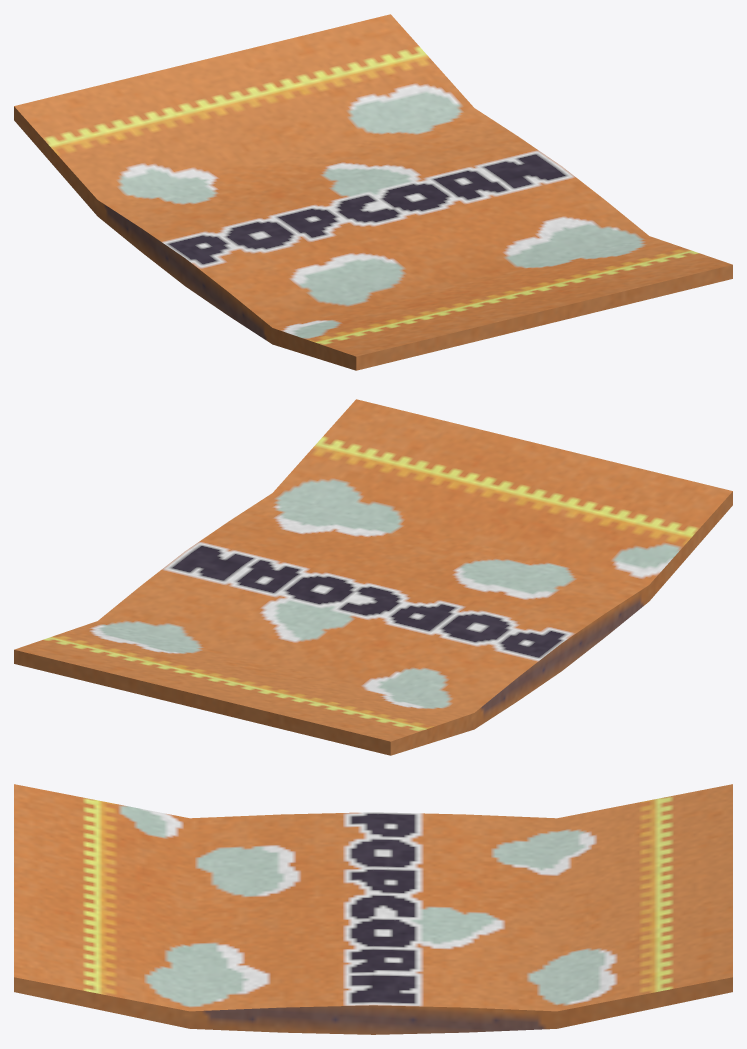
File: Popcorn_Uncooked 1.fbx
3 renders of one model, top to bottom at view 1: azimuth 30°, elevation 25°; view 2: azimuth 150°, elevation 25°; view 3: azimuth 270°, elevation 25°, orthographic. The views are drawn at different scales.
Parts seen in each view (by area): view 1: Popcorn_Uncooked; view 2: Popcorn_Uncooked; view 3: Popcorn_Uncooked.
Part boxes in pixels (box(x1,y1,x2,y2)): Popcorn_Uncooked: box(14, 14, 732, 370); Popcorn_Uncooked: box(14, 399, 732, 755); Popcorn_Uncooked: box(14, 784, 732, 1034).
Size of the model in its own units: 63.23 by 8.8 by 99.47.
